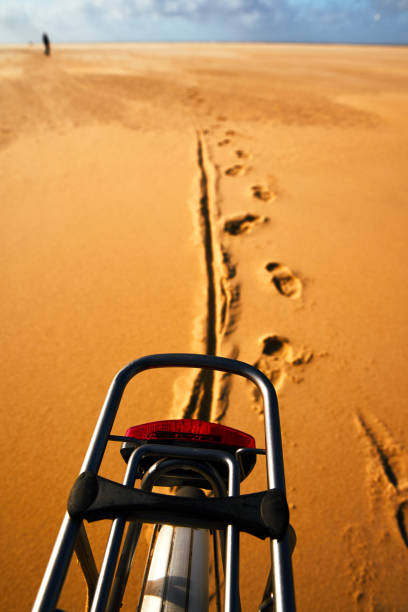human_foot_print: (356, 410, 407, 547), (254, 334, 313, 391), (265, 262, 301, 298), (223, 213, 268, 235), (251, 184, 276, 201), (225, 164, 247, 176), (235, 149, 251, 159)
vehicle_track: (194, 129, 269, 357), (197, 131, 239, 354), (356, 410, 407, 547), (197, 133, 216, 354)
